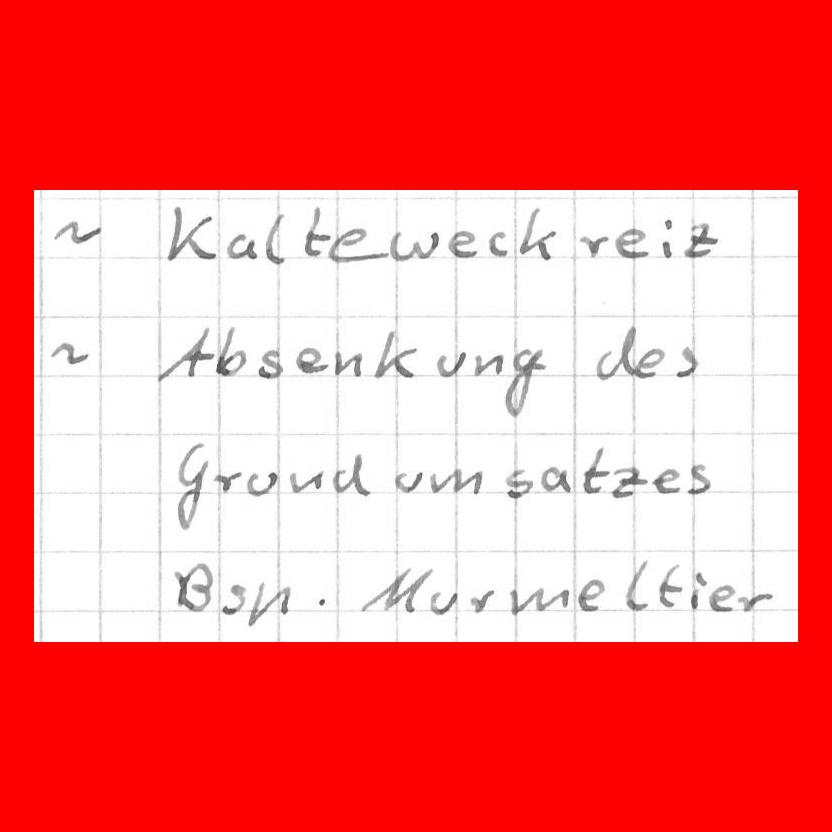Char: (153, 325, 215, 383), (170, 444, 209, 531), (162, 201, 213, 266), (359, 566, 428, 613), (505, 346, 546, 415), (593, 324, 636, 379), (518, 204, 557, 264), (373, 330, 418, 379), (247, 580, 292, 628), (329, 226, 379, 263), (49, 215, 105, 248), (173, 565, 214, 610), (508, 584, 564, 616), (388, 230, 437, 265), (332, 454, 373, 493), (216, 324, 246, 375), (623, 557, 650, 612), (262, 211, 289, 265), (681, 220, 716, 261), (303, 204, 329, 259), (432, 466, 479, 496), (581, 445, 608, 495), (657, 560, 683, 610), (47, 339, 90, 369), (615, 225, 648, 260), (608, 466, 643, 498), (633, 345, 665, 379), (294, 346, 328, 376), (577, 576, 603, 613), (332, 347, 363, 378), (449, 229, 481, 259), (540, 462, 570, 493), (502, 468, 531, 500), (226, 231, 258, 260), (246, 468, 278, 497), (221, 580, 246, 616), (672, 343, 697, 379), (650, 467, 681, 496), (709, 582, 737, 614), (435, 350, 467, 378), (290, 467, 323, 494), (738, 588, 772, 614), (579, 230, 609, 259), (256, 347, 283, 379), (686, 461, 711, 495), (688, 569, 708, 611), (472, 350, 503, 377), (429, 587, 459, 614), (468, 587, 496, 615), (393, 468, 422, 495), (658, 215, 675, 260), (485, 229, 510, 258), (214, 468, 240, 495), (313, 592, 331, 610)
